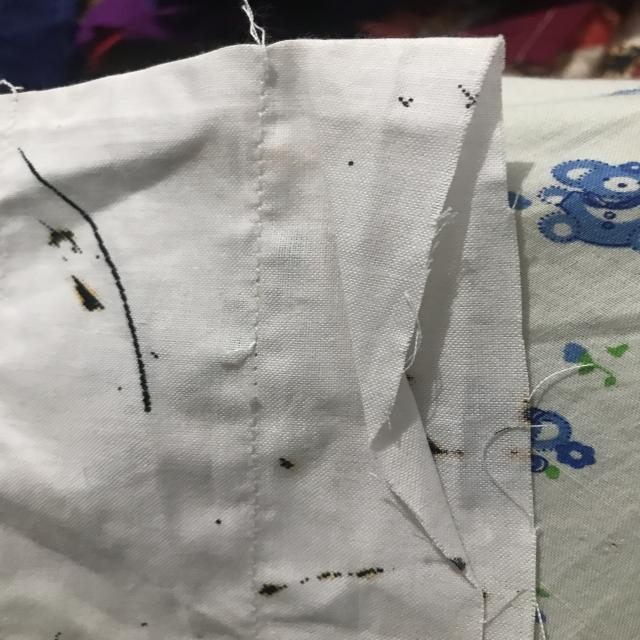broken: (221, 334, 290, 426)
